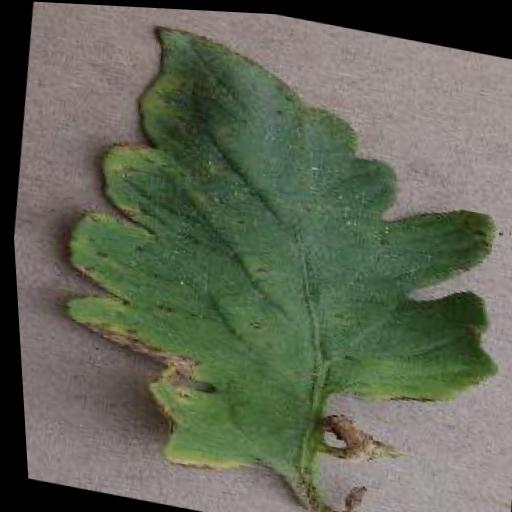Bacterial Spot: (10, 0, 512, 512)
